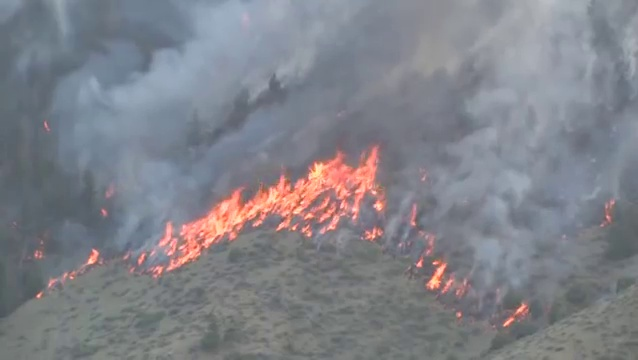fire: (165, 158, 374, 270), (428, 261, 445, 287)
